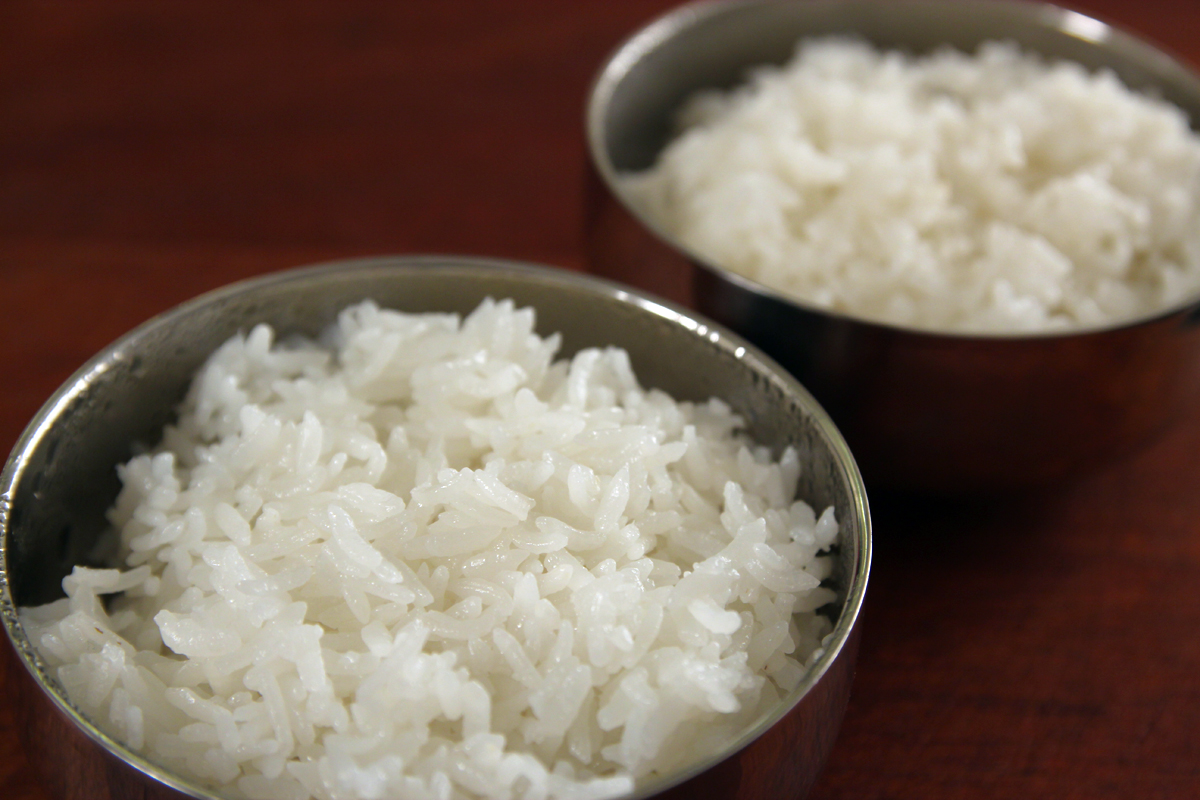rice: (93, 292, 823, 776)
